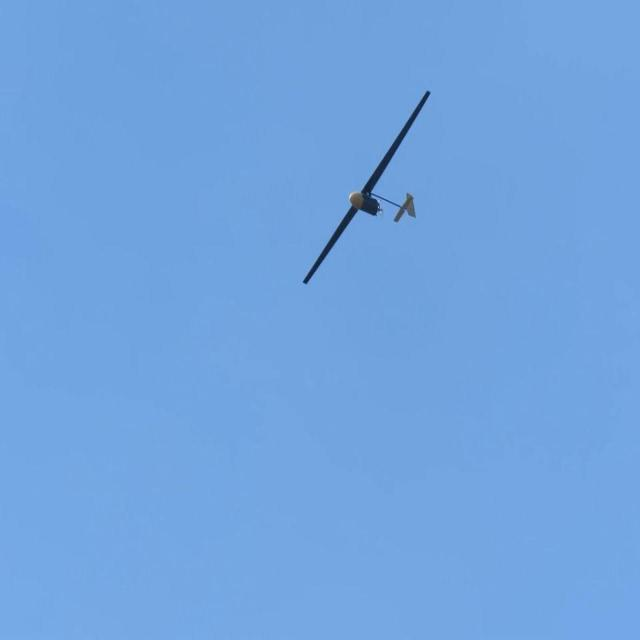UAV: (284, 95, 447, 293)
